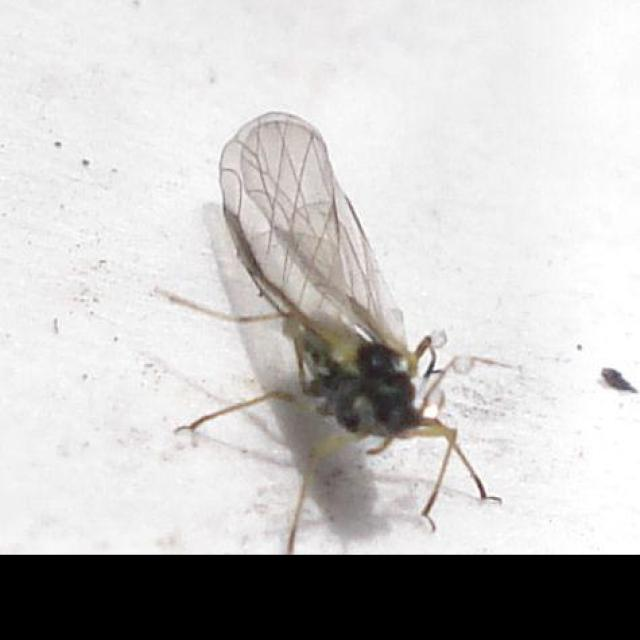Aphids: (144, 111, 528, 546)
